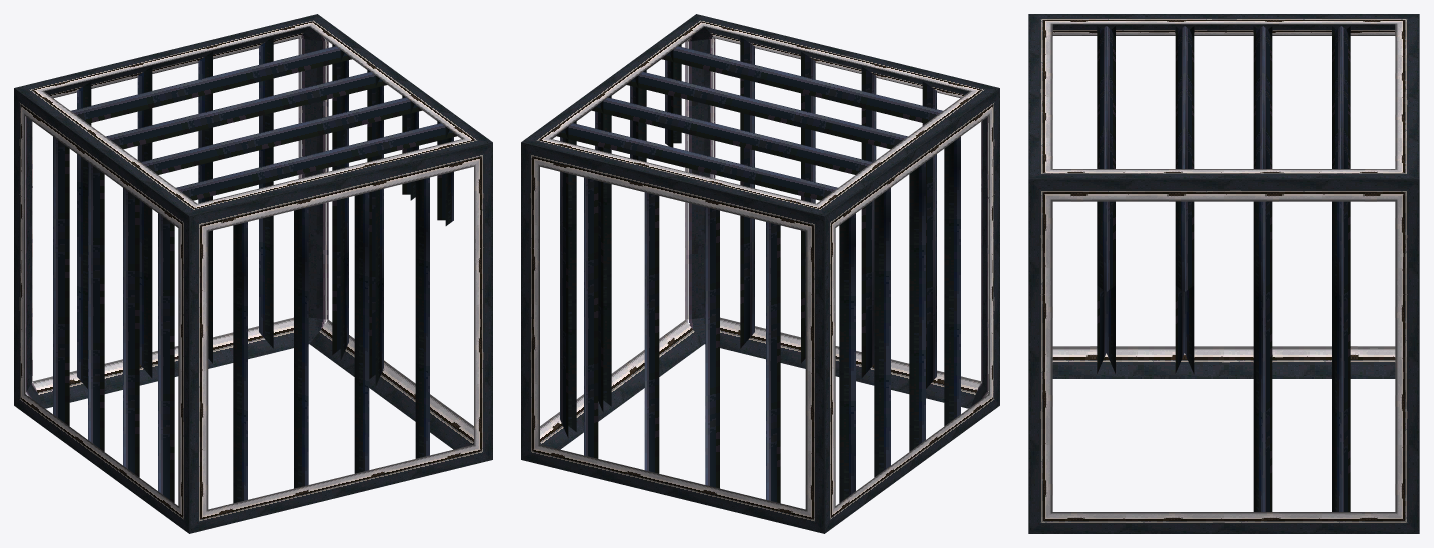
Rendered from cage.fbx.
3 renders of one model, left to right at view 1: azimuth 30°, elevation 25°; view 2: azimuth 150°, elevation 25°; view 3: azimuth 270°, elevation 25°, orthographic. The views are drawn at different scales.
Parts seen in each view (by area): view 1: Cage:Mesh; view 2: Cage:Mesh; view 3: Cage:Mesh.
Part boxes in pixels (<box>): Cage:Mesh: <box>14,14,492,533</box>; Cage:Mesh: <box>521,14,999,533</box>; Cage:Mesh: <box>1028,14,1419,533</box>.
Size of the model in its own units: 2 by 2 by 2.
1 material, 1 textured.
